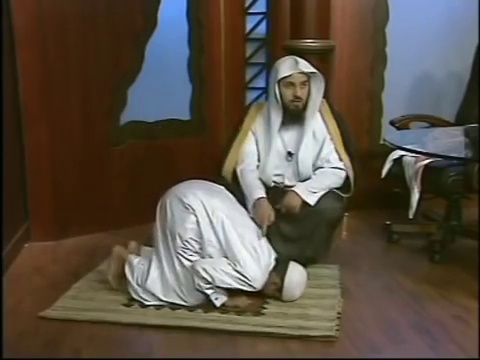sujud: (106, 178, 309, 312)
